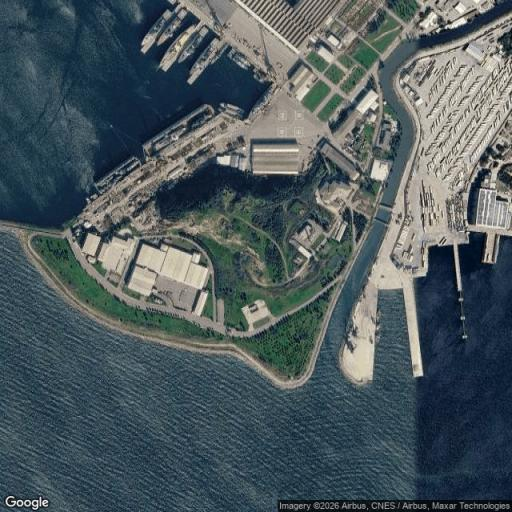ship: (144, 104, 214, 155), (96, 157, 140, 194), (160, 25, 195, 71), (188, 39, 220, 84), (141, 10, 171, 53), (157, 8, 187, 45), (248, 85, 278, 121), (179, 26, 207, 63), (228, 48, 251, 68), (220, 103, 244, 119), (209, 44, 228, 64), (253, 69, 267, 82), (376, 309, 381, 343), (376, 309, 381, 324)
